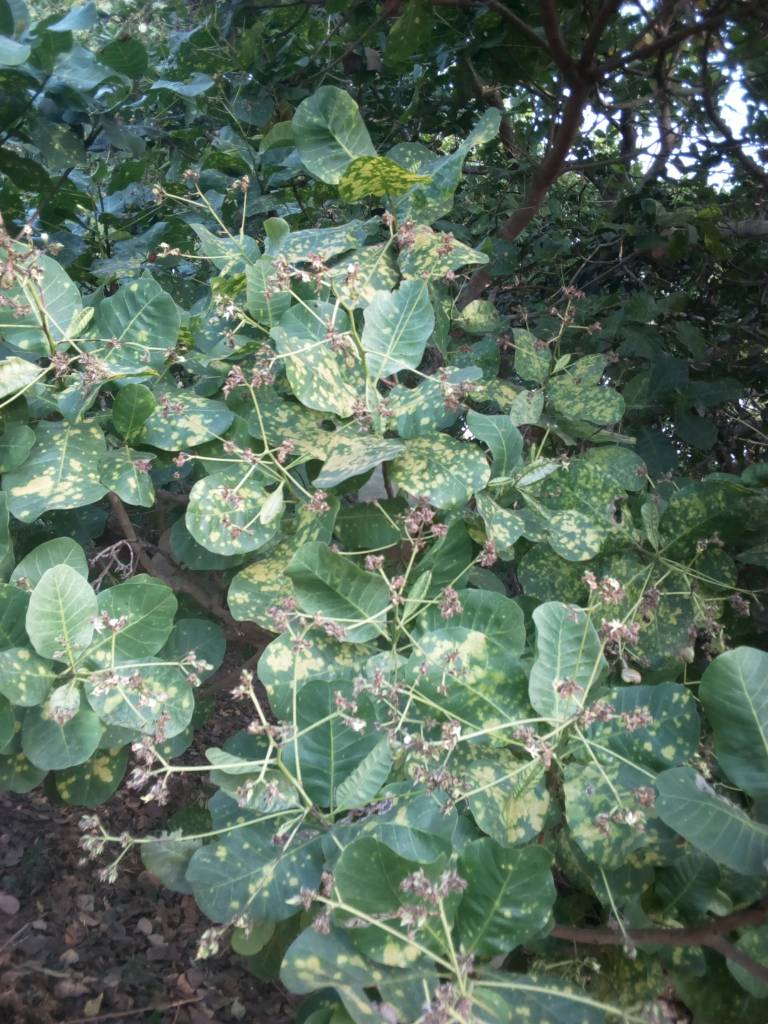Carence minérale: (82, 269, 213, 385), (590, 563, 707, 688), (1, 235, 95, 389), (560, 769, 691, 875), (432, 750, 565, 852), (521, 594, 615, 732), (416, 622, 536, 730), (1, 419, 121, 521), (283, 88, 386, 202), (382, 424, 496, 513), (85, 652, 199, 741), (533, 353, 648, 441), (279, 318, 379, 418), (185, 453, 277, 561), (518, 448, 630, 530), (318, 238, 408, 324), (224, 555, 299, 638), (311, 155, 416, 211)
